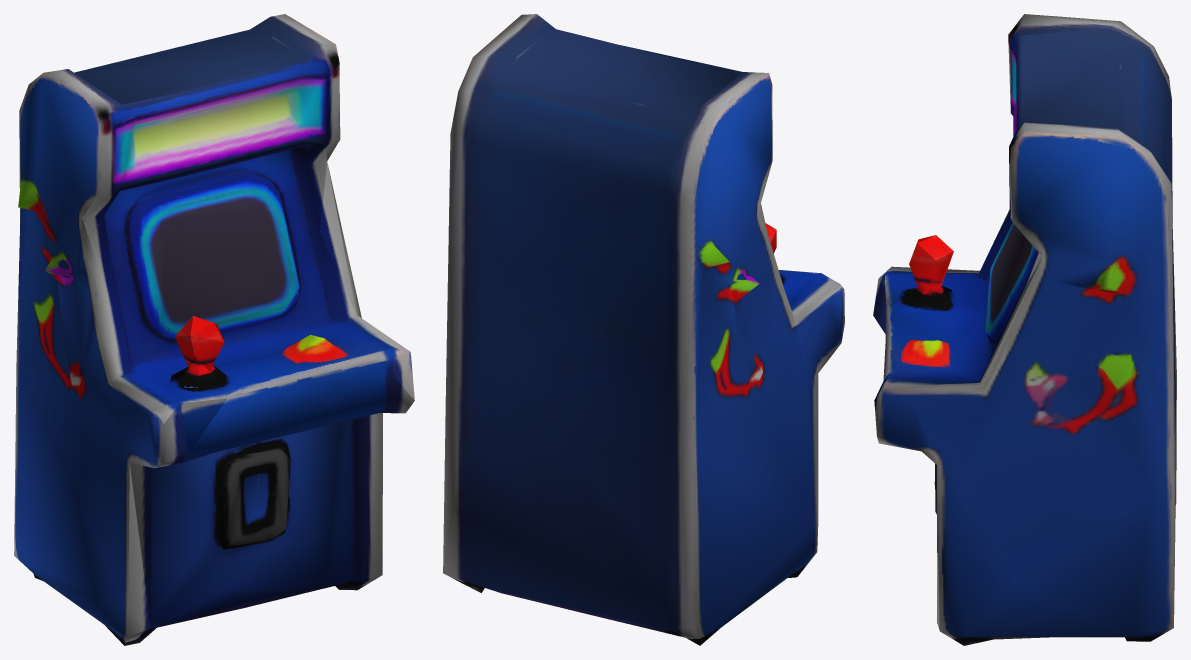
File: arcade-cabinet.glb
3 views of the same model, side by side, from view 1: azimuth 30°, elevation 25°; view 2: azimuth 150°, elevation 25°; view 3: azimuth 270°, elevation 25° (orthographic). The views are drawn at different scales.
Visible parts, largest first — view 1: geometry_0.001; view 2: geometry_0.001; view 3: geometry_0.001.
Part boxes in pixels (x1,y1,x2,y2): geometry_0.001: [14, 14, 414, 645]; geometry_0.001: [443, 14, 844, 645]; geometry_0.001: [873, 14, 1176, 645].
Bounding box in the file's own units: 0.5604 × 1 × 0.529.
1 material, 1 textured.
